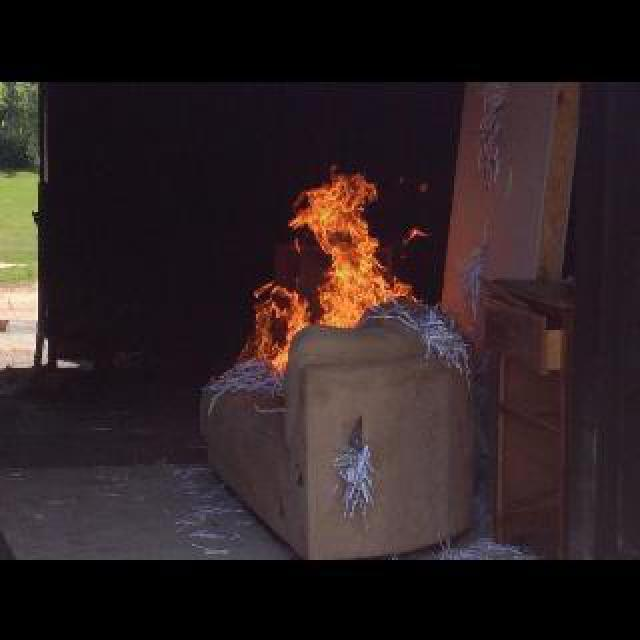Fire: (294, 160, 420, 330), (230, 272, 310, 374)
